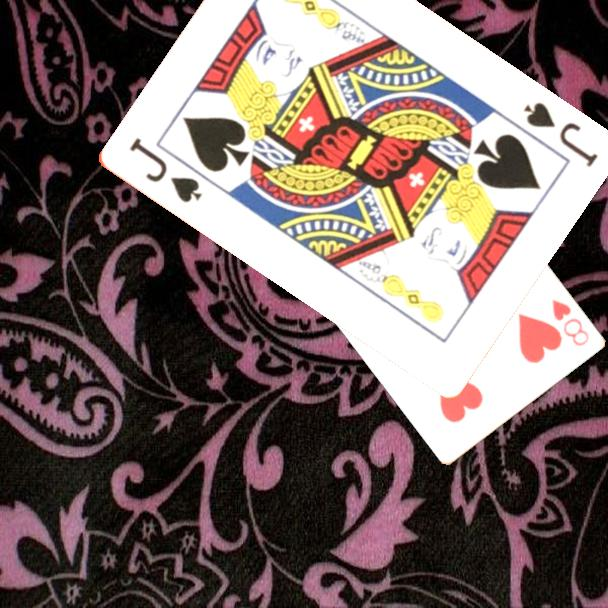h08: (549, 296, 593, 349)
s11: (519, 98, 601, 170), (124, 134, 204, 206)
